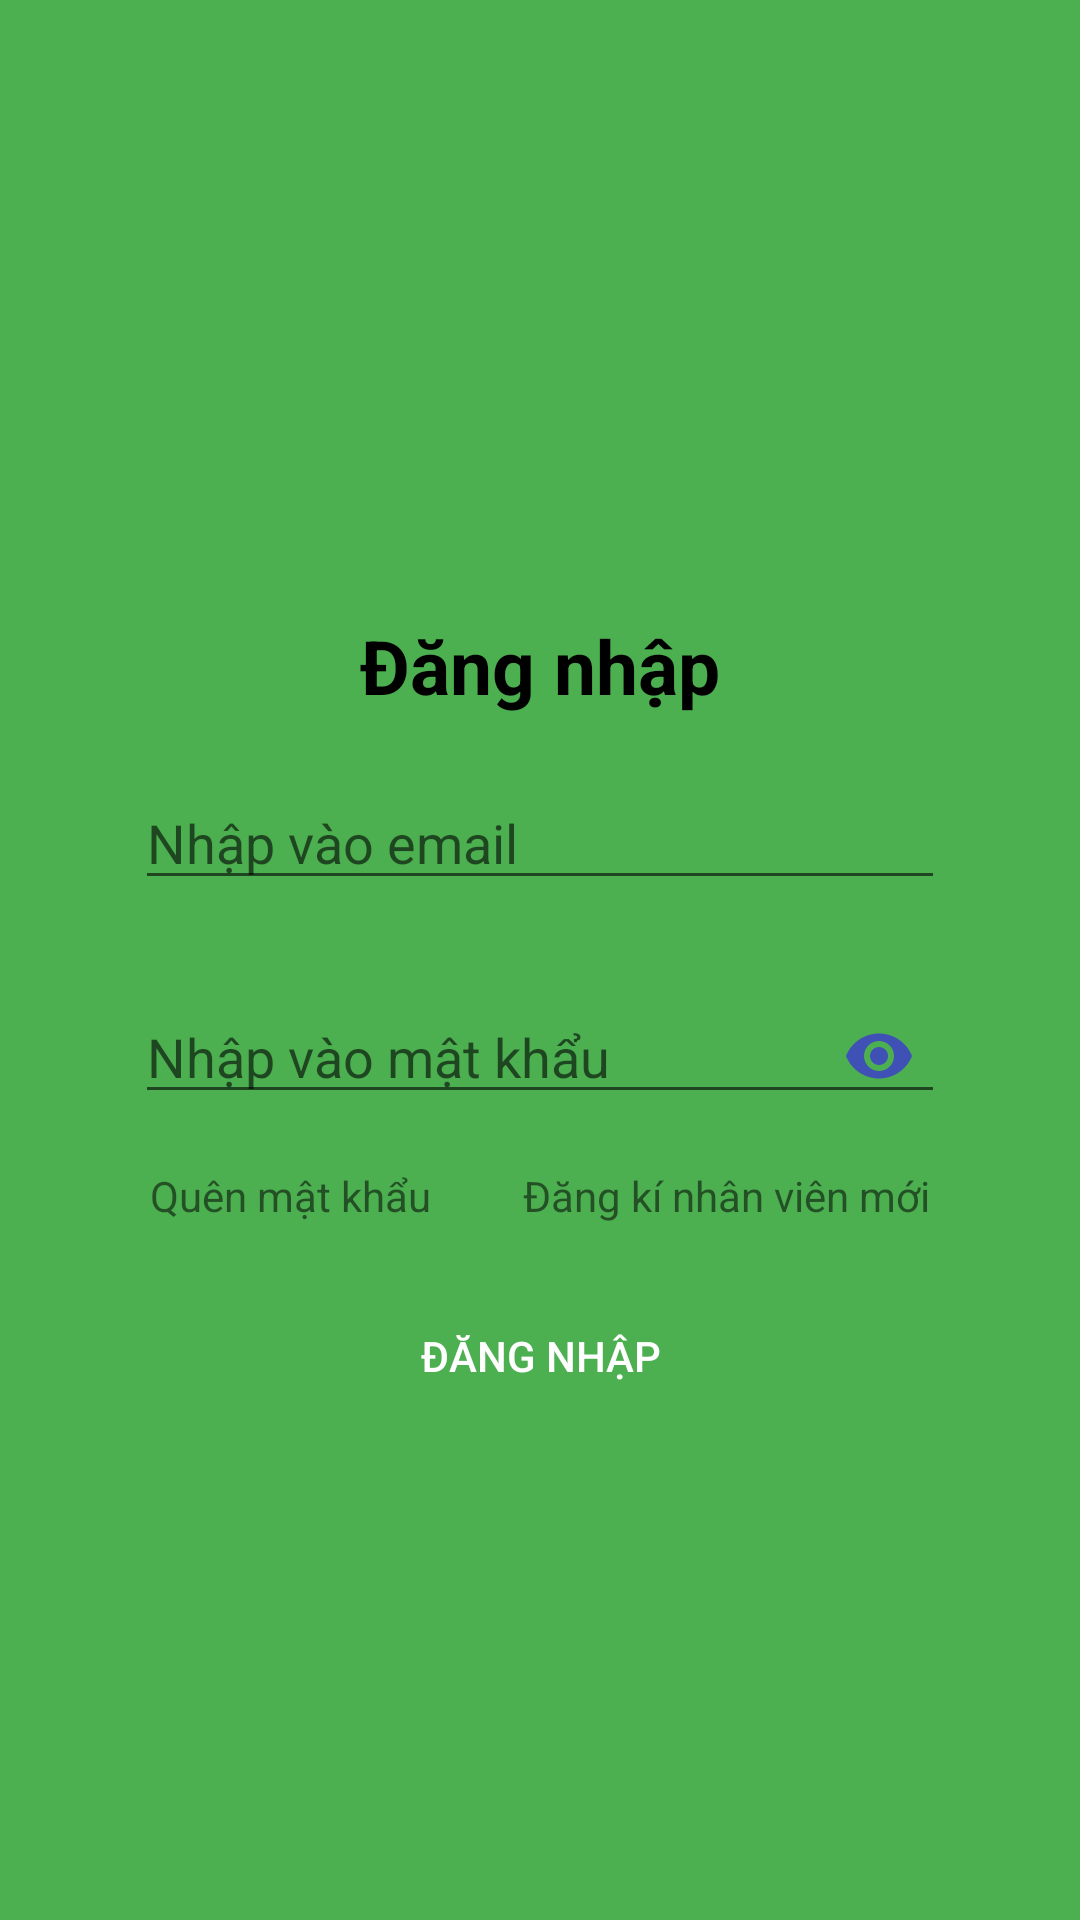

Icons on this 1080*1920 Android screen, each with its box as (x1, y1, x2, y2):
visible: (846, 1033, 912, 1079)
